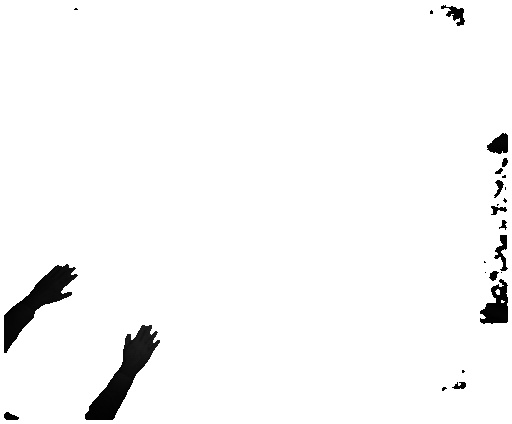hand: (121, 320, 159, 374), (35, 264, 79, 308)
